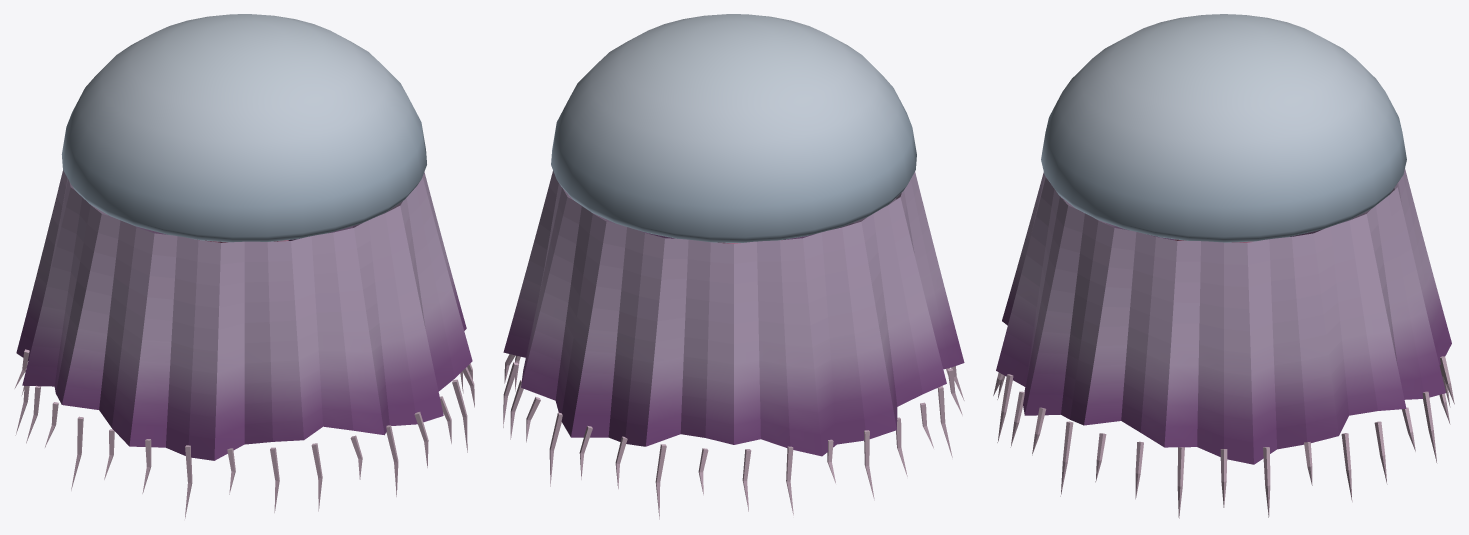
Rendered from Essexella.fbx.
The picture shows the model from 3 angles, left to right: view 1: azimuth 30°, elevation 25°; view 2: azimuth 150°, elevation 25°; view 3: azimuth 270°, elevation 25°; orthographic projection.
Parts seen in each view (by area): view 1: Essexella; view 2: Essexella; view 3: Essexella.
Part boxes in pixels (x1=…): Essexella: x1=14, y1=14, x2=474, y2=518; Essexella: x1=503, y1=14, x2=964, y2=519; Essexella: x1=993, y1=14, x2=1454, y2=518.
Bounding box in the file's own units: 1.06 × 0.995 × 1.06.
